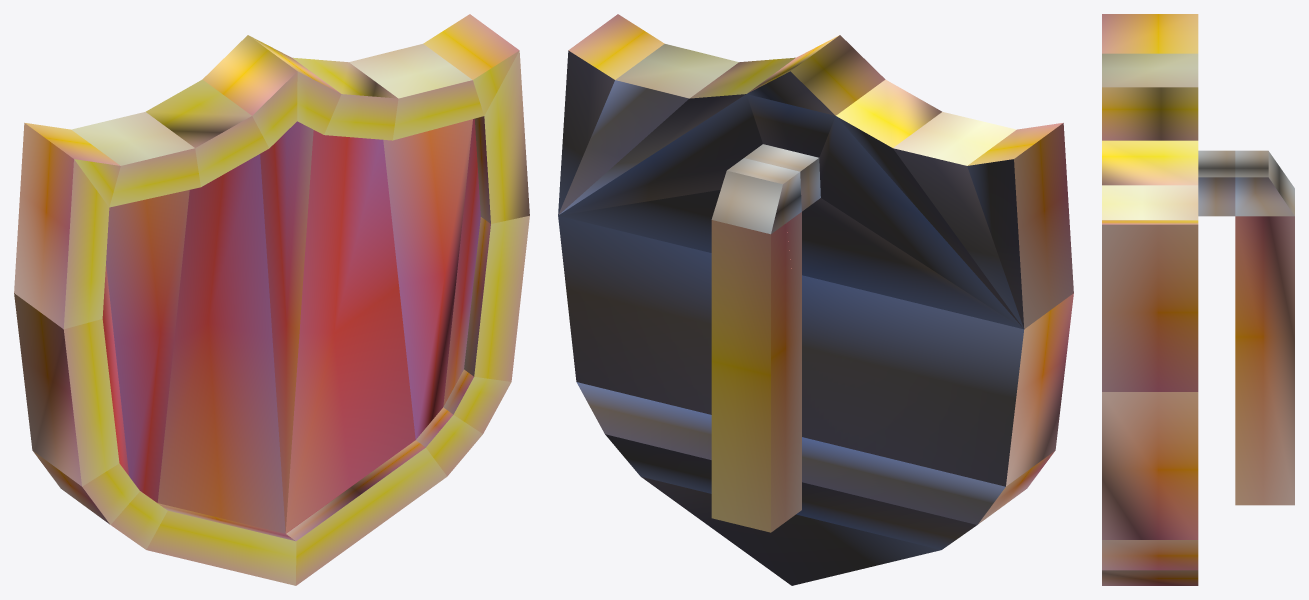
The model's file is shield01.fbx.
3 renders of one model, left to right at view 1: azimuth 30°, elevation 25°; view 2: azimuth 150°, elevation 25°; view 3: azimuth 270°, elevation 25°, orthographic. The views are drawn at different scales.
Visible parts, largest first — view 1: shield01; view 2: shield01; view 3: shield01.
Part boxes in pixels (box(x1,y1,x2,y2)): shield01: box(14, 14, 529, 585); shield01: box(558, 14, 1073, 585); shield01: box(1102, 14, 1294, 585).
Bounding box in the file's own units: 108 × 114 × 40.06.
